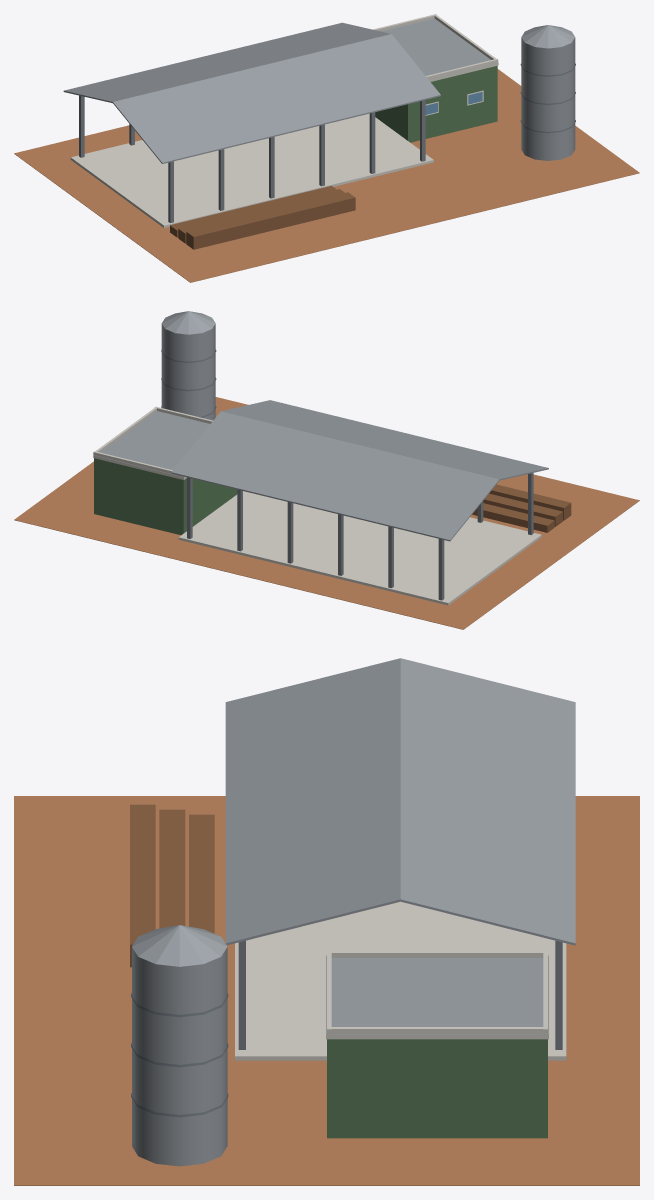
The model's file is scierie_jura.glb.
The picture shows the model from 3 angles, top to bottom: view 1: azimuth 30°, elevation 25°; view 2: azimuth 150°, elevation 25°; view 3: azimuth 270°, elevation 25°; orthographic projection. The views are drawn at different scales.
Parts seen in each view (by area): view 1: scierie_jura; view 2: scierie_jura; view 3: scierie_jura.
Part boxes in pixels (box(x1,y1,x2,y2)): scierie_jura: box(14, 14, 639, 282); scierie_jura: box(14, 311, 639, 629); scierie_jura: box(14, 658, 639, 1185).
Bounding box in the file's own units: 50 × 13.3 × 34.
Materials: 1 (1 with a texture image).
